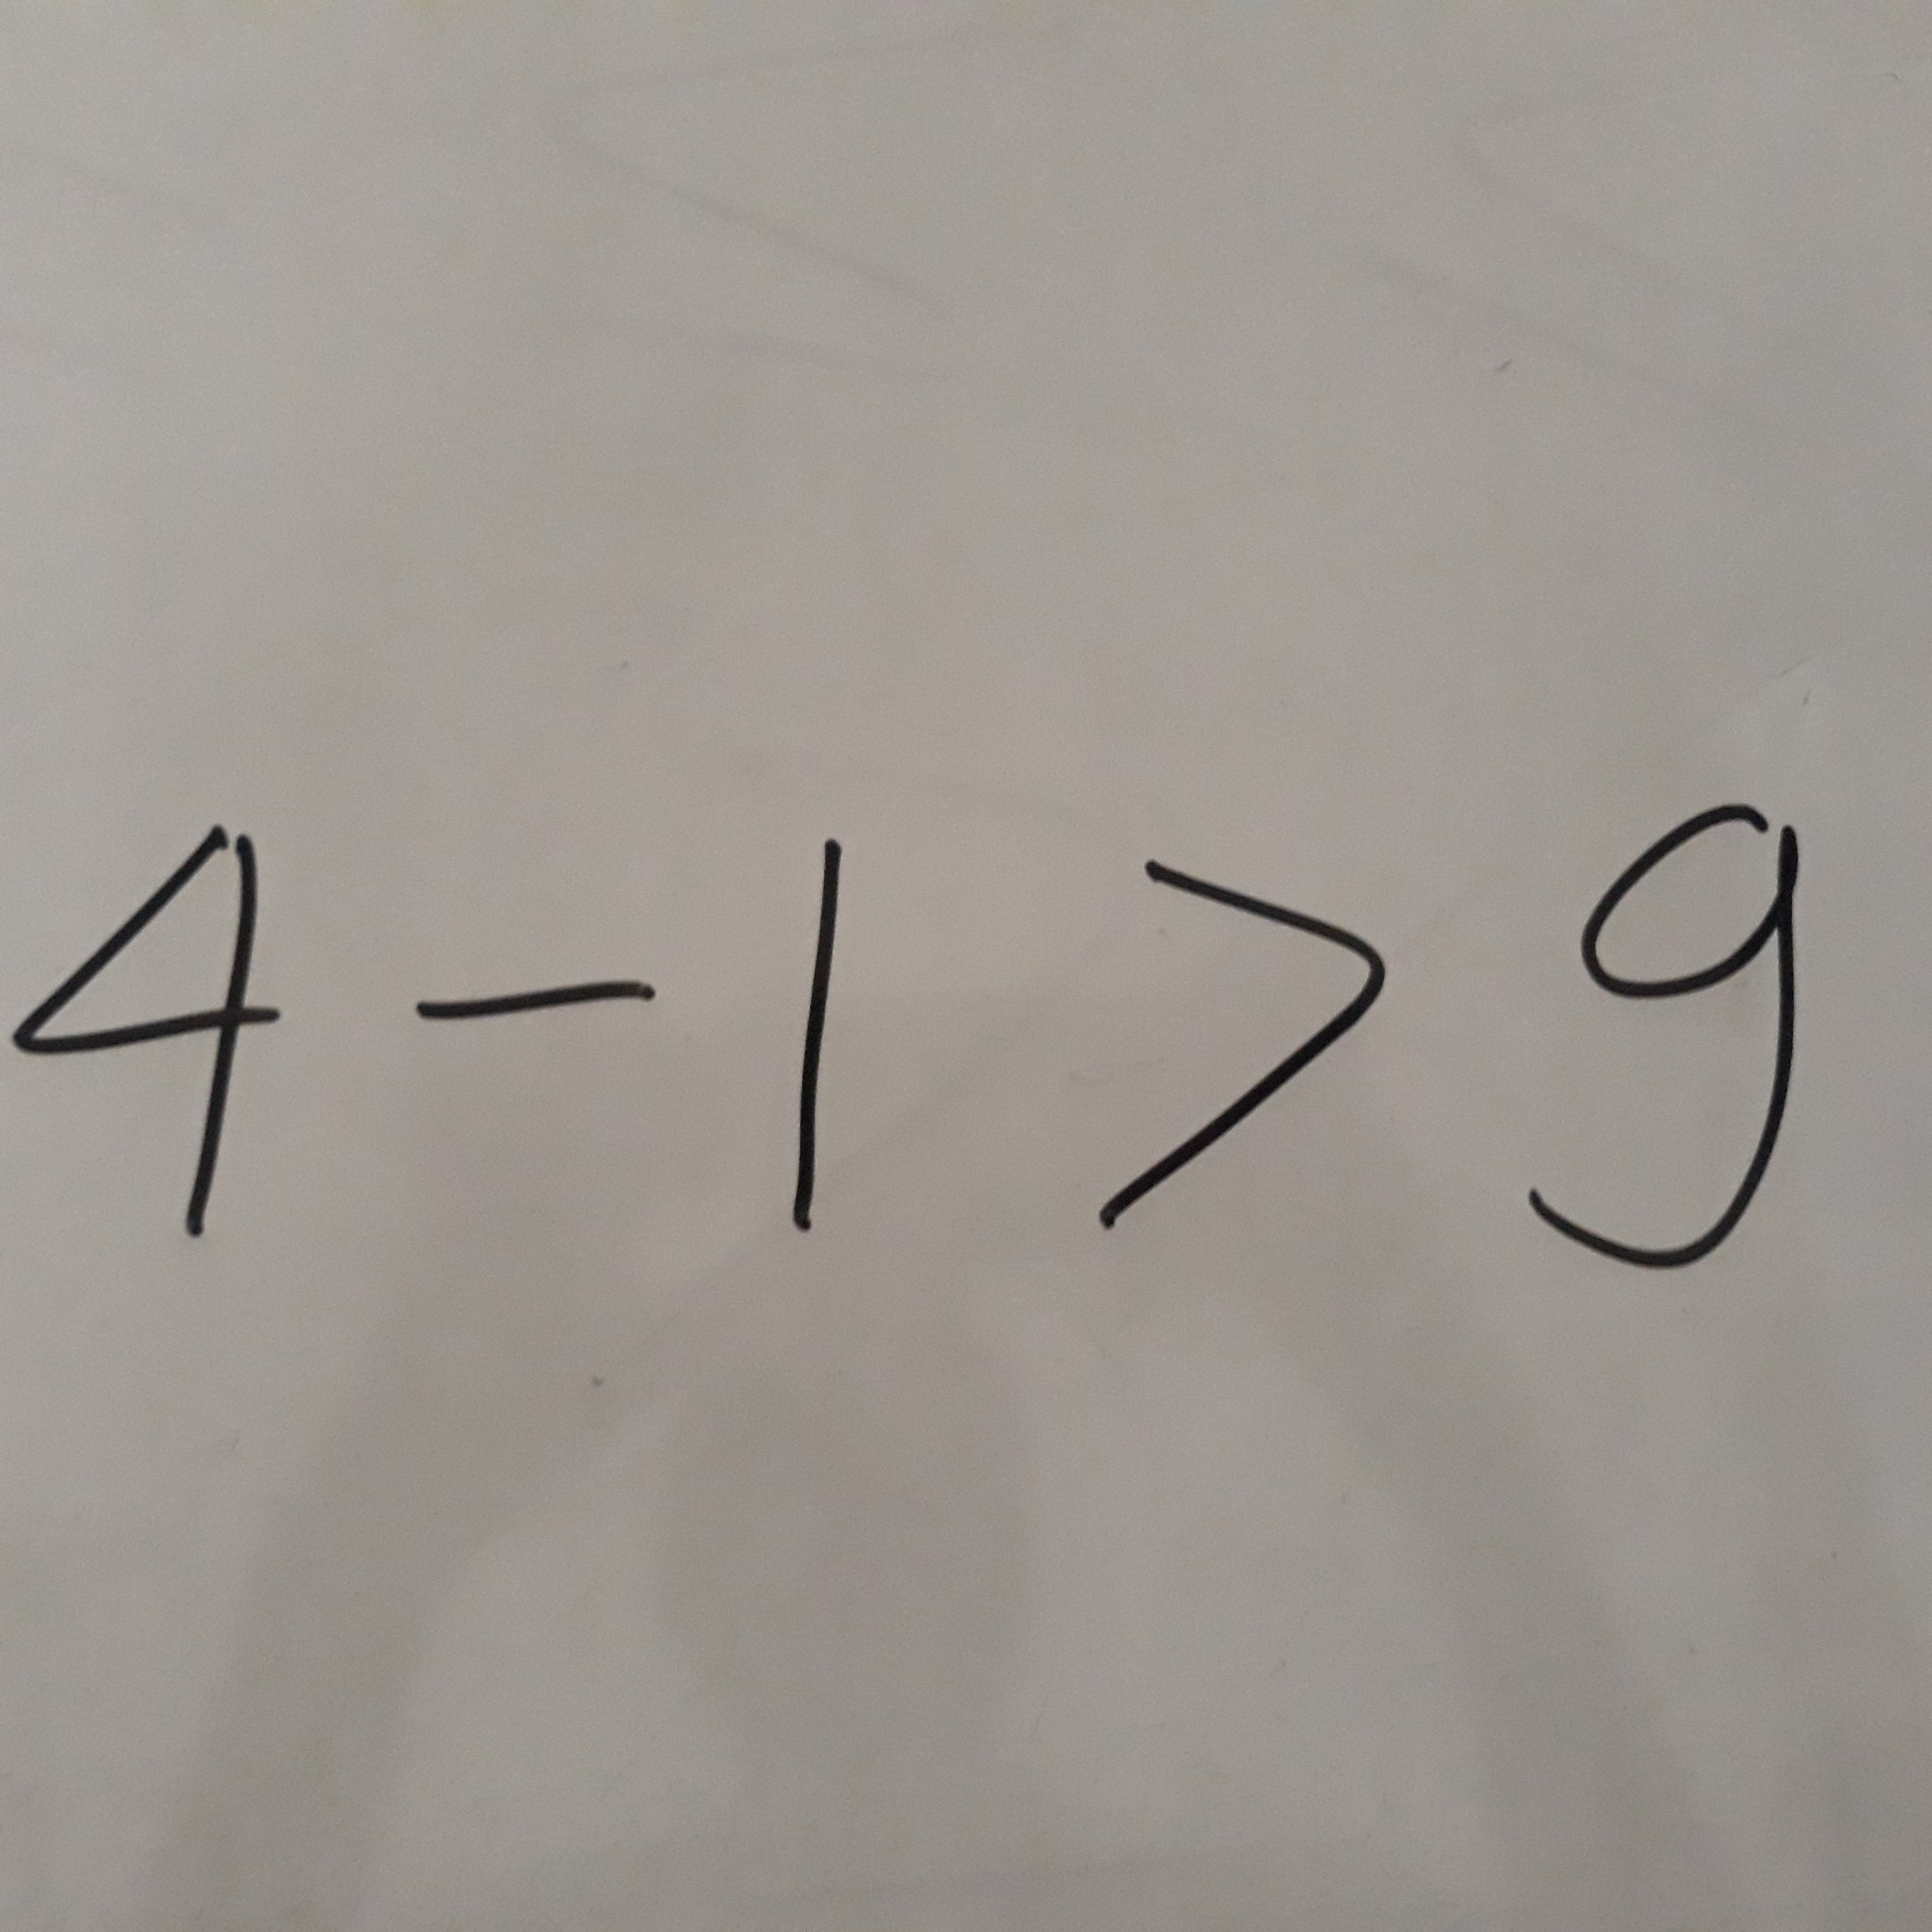min: (373, 914, 679, 1091)
morethan: (1063, 819, 1409, 1246)
num1: (748, 823, 885, 1262)
num4: (1, 793, 315, 1292)
num9: (1513, 778, 1828, 1277)
